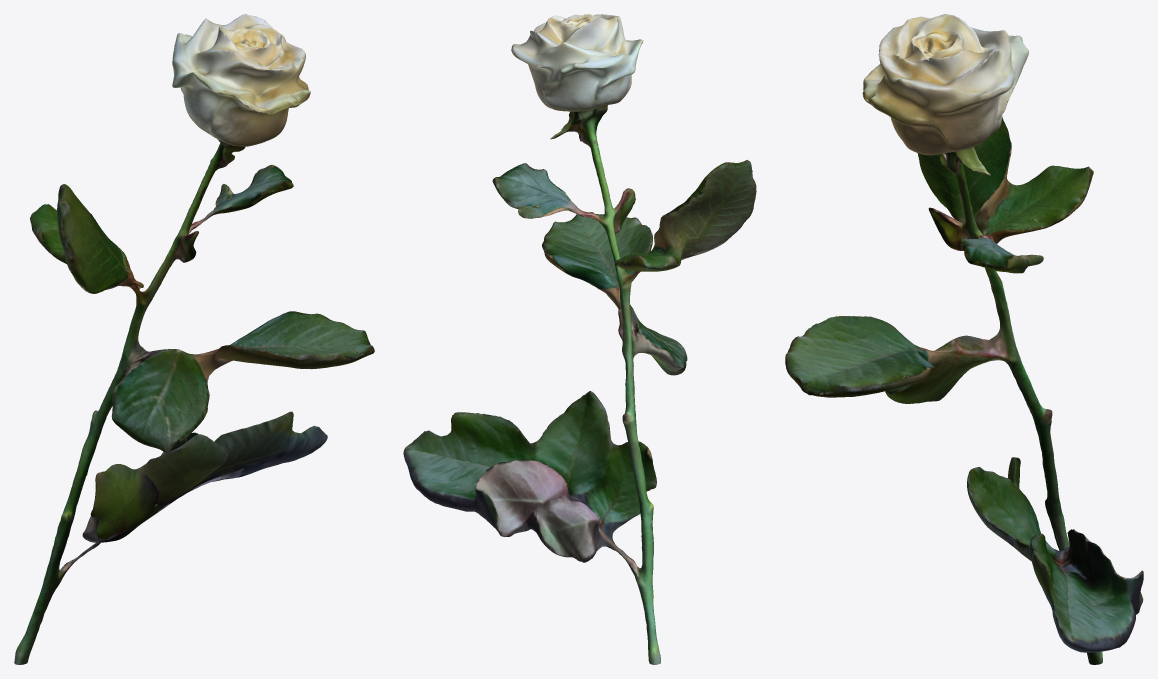
File: white_rose.glb
3 views of the same model, side by side, from view 1: azimuth 30°, elevation 25°; view 2: azimuth 150°, elevation 25°; view 3: azimuth 270°, elevation 25° (orthographic). The views are drawn at different scales.
Visible parts, largest first — view 1: Object_2; view 2: Object_2; view 3: Object_2.
Boxes of the visible parts, x1,y1,x2,y2 form: Object_2: (14, 14, 374, 664); Object_2: (403, 14, 756, 664); Object_2: (785, 14, 1143, 664).
Bounding box in the file's own units: 0.2167 × 0.4046 × 0.1826.
1 material, 1 textured.
